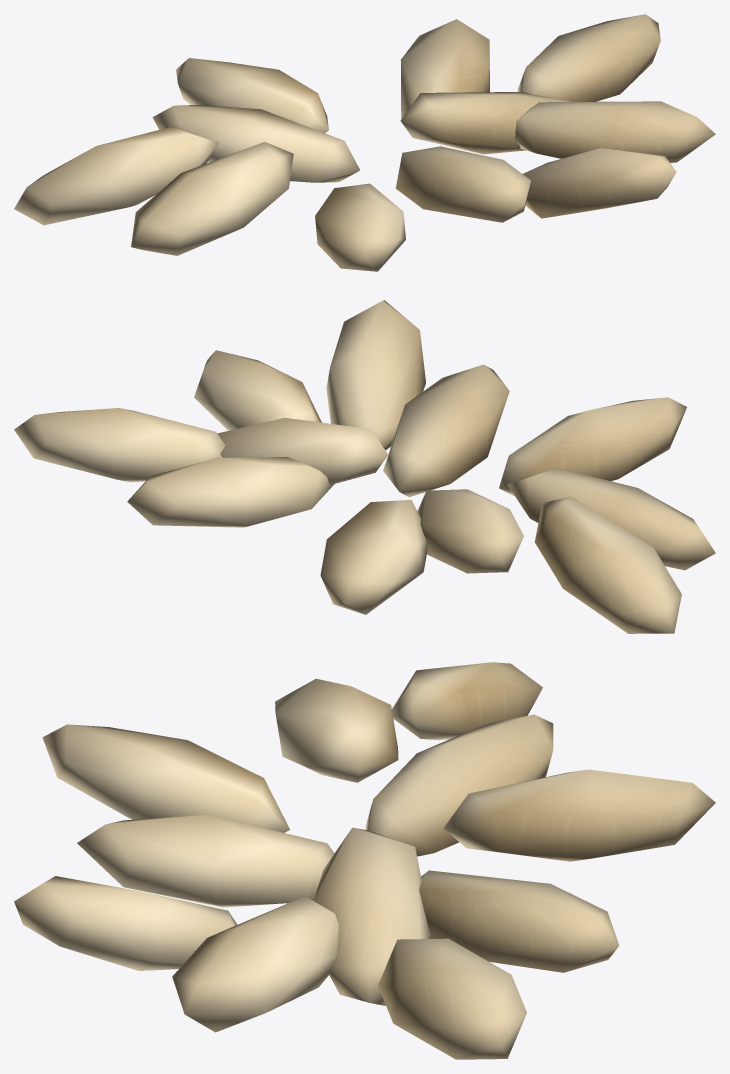
File: NP_Orchid_Seed_LOD1.fbx
3 views of the same model, one above another, from view 1: azimuth 30°, elevation 25°; view 2: azimuth 150°, elevation 25°; view 3: azimuth 270°, elevation 25° (orthographic). The views are drawn at different scales.
Visible parts, largest first — view 1: NP_Orchid_Seed; view 2: NP_Orchid_Seed; view 3: NP_Orchid_Seed.
Part boxes in pixels (<box>): NP_Orchid_Seed: <box>14,14,715,271</box>; NP_Orchid_Seed: <box>14,300,715,633</box>; NP_Orchid_Seed: <box>14,662,715,1059</box>.
Size of the model in its own units: 13.86 by 1.87 by 10.11.
